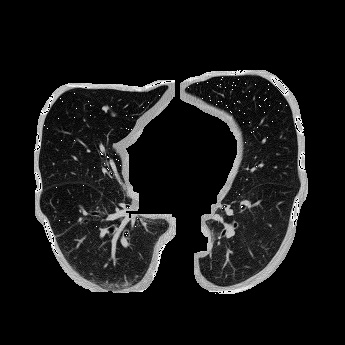PN: (103, 106, 107, 110)
